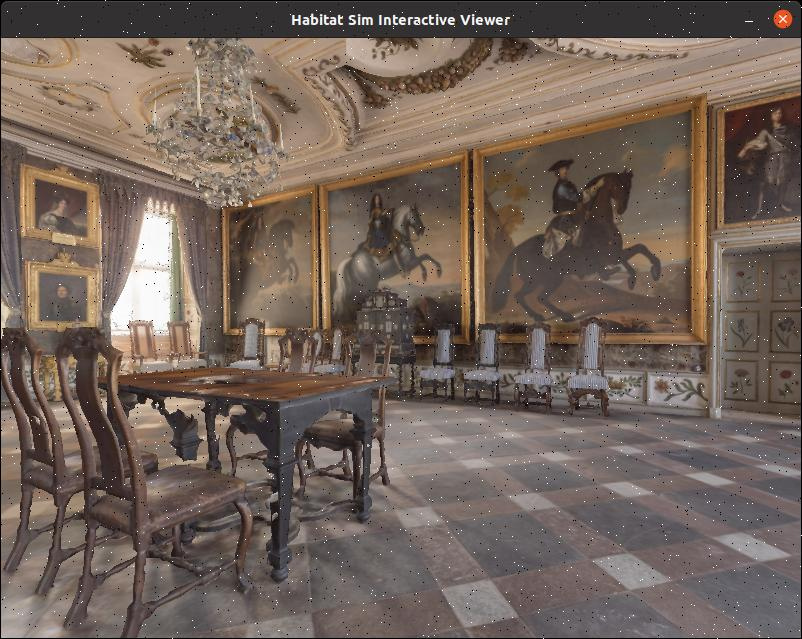chair: (39, 309, 262, 639), (0, 296, 144, 606)
table: (104, 345, 407, 570)
